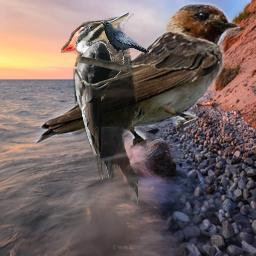Crow: (100, 21, 149, 62)
Swallow: (30, 0, 240, 152)
Woodpecker: (61, 12, 138, 208)
